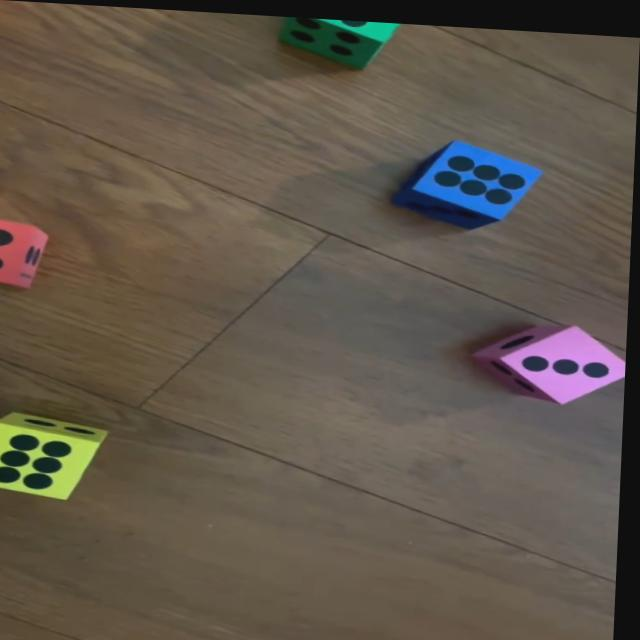blue_block: (397, 128, 546, 225)
red_block: (0, 215, 52, 291)
